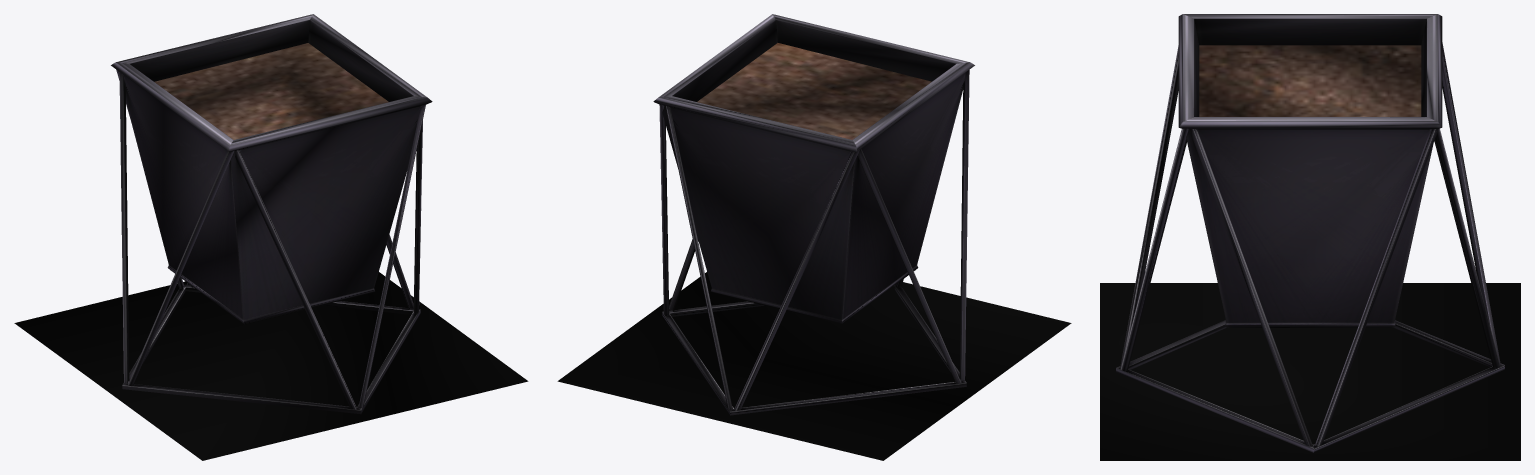
File: huapen_002.FBX
3 renders of one model, left to right at view 1: azimuth 30°, elevation 25°; view 2: azimuth 150°, elevation 25°; view 3: azimuth 270°, elevation 25°, orthographic. The views are drawn at different scales.
Visible parts, largest first — view 1: huapen_002_005, huapen_002_004; view 2: huapen_002_005, huapen_002_004; view 3: huapen_002_005, huapen_002_004.
Part boxes in pixels (x1,y1,x2,y2): huapen_002_005: (111,14,432,414); huapen_002_004: (14,272,528,460); huapen_002_005: (653,14,974,415); huapen_002_004: (557,272,1071,460); huapen_002_005: (1116,14,1504,452); huapen_002_004: (1100,283,1520,460).
Size of the model in its own units: 509 by 406 by 509.
